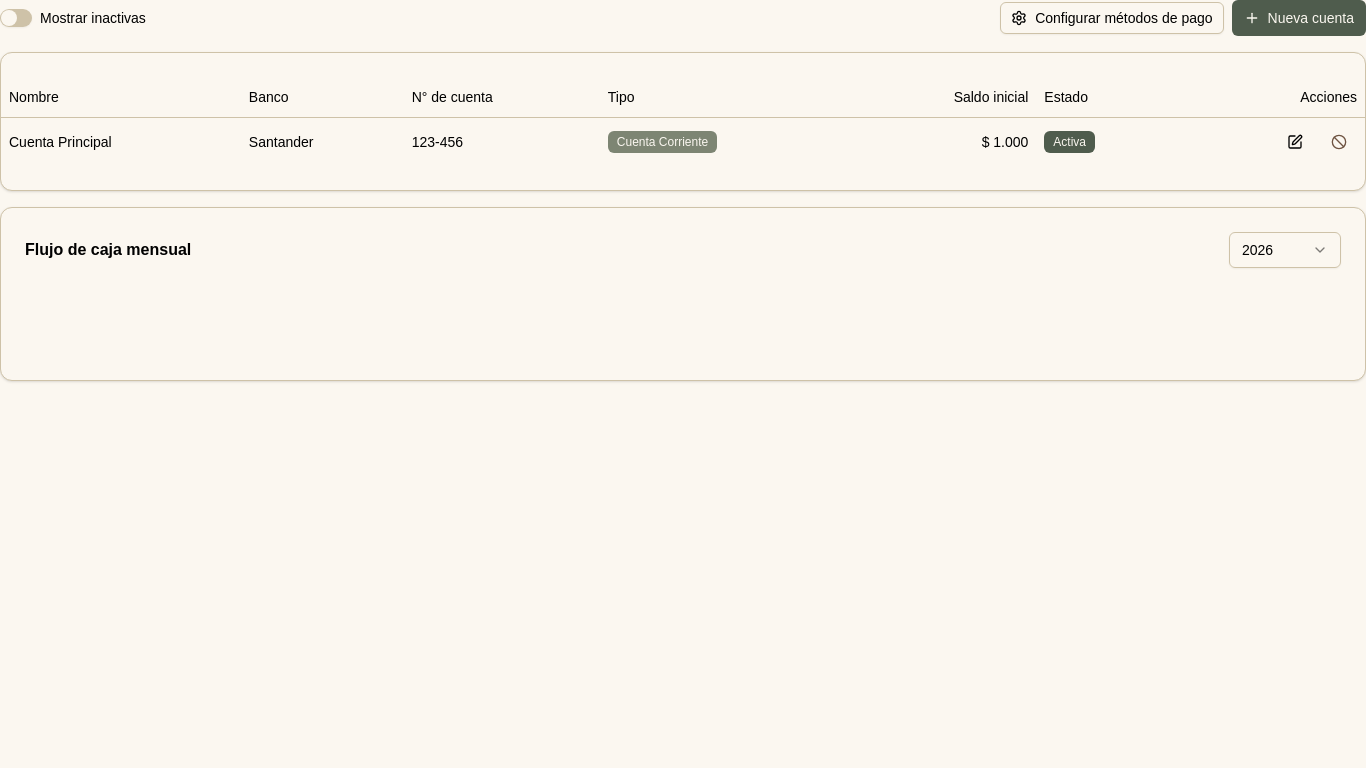
Scenario: BankAccountsTab › does not deactivate when the confirm dialog is cancelled
Click the button named "Desactivar" at (1339, 142), box [1321,126,1357,158]
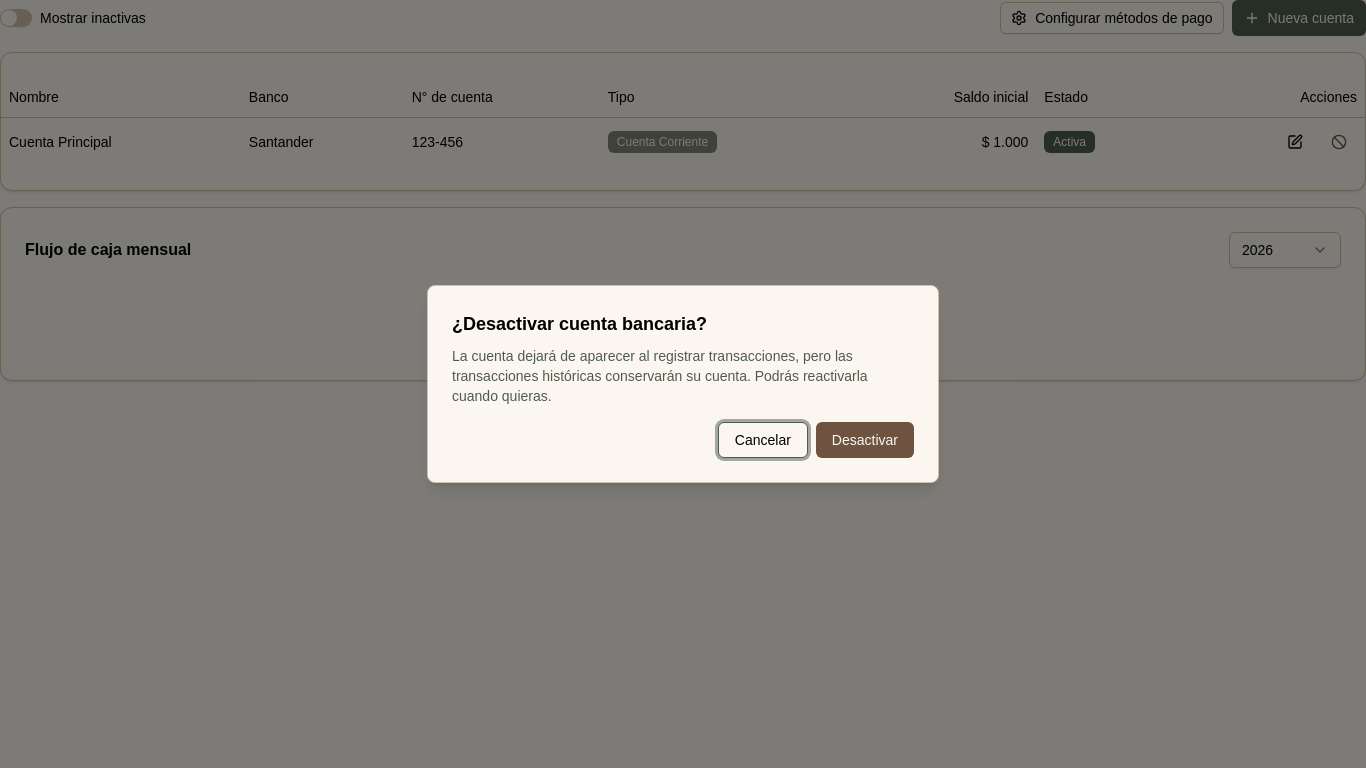
Click the button "Cancelar" at (763, 440), box [718,422,808,458]
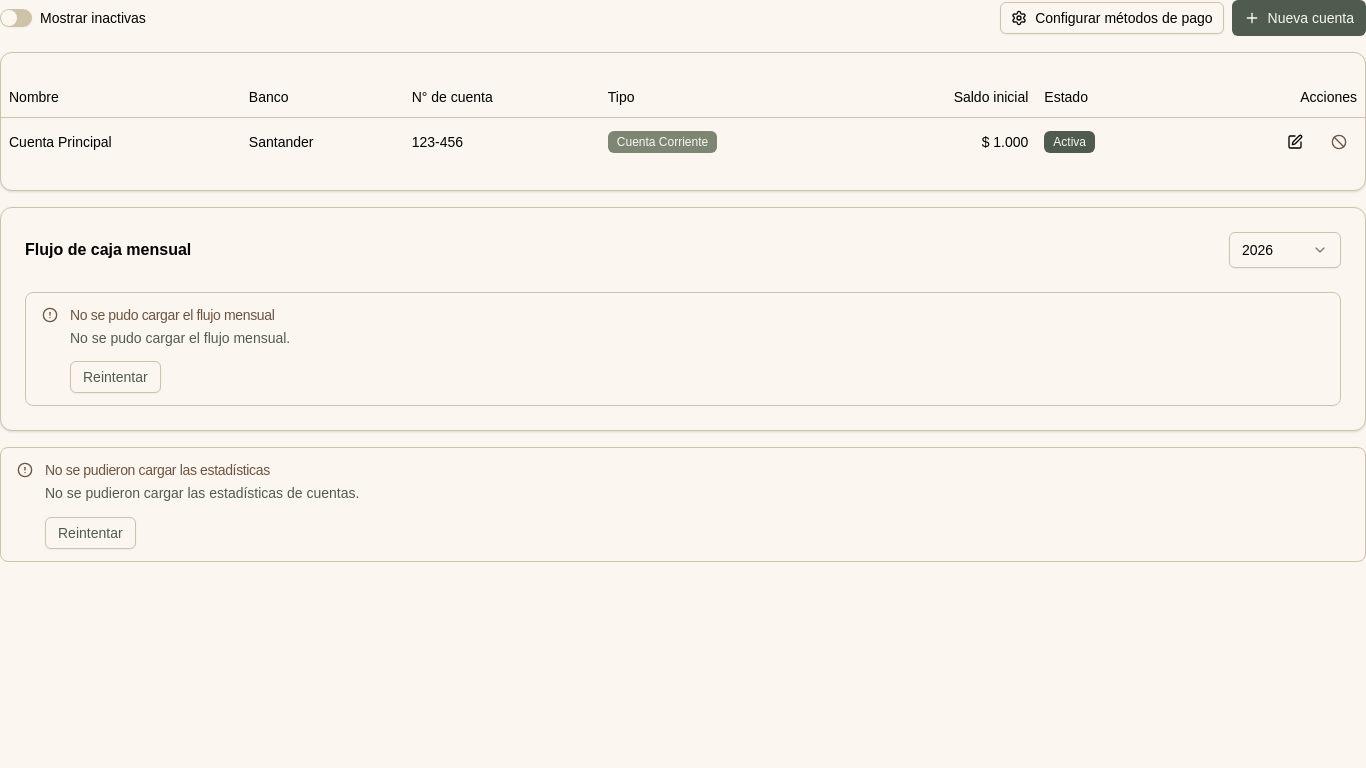
Expected: the heading "¿Desactivar cuenta bancaria?" is gone
